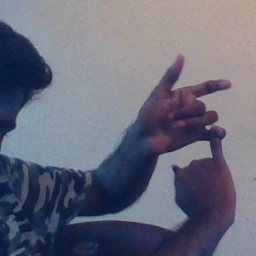S: (132, 49, 243, 197)
